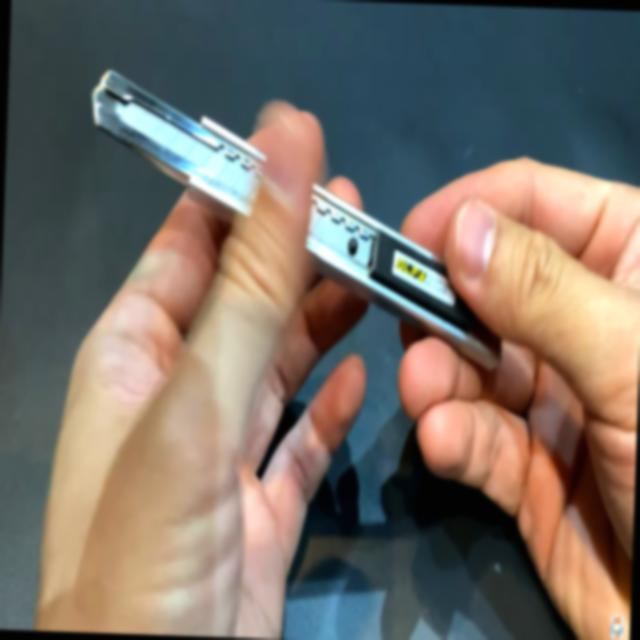cutter: (17, 40, 640, 640)
